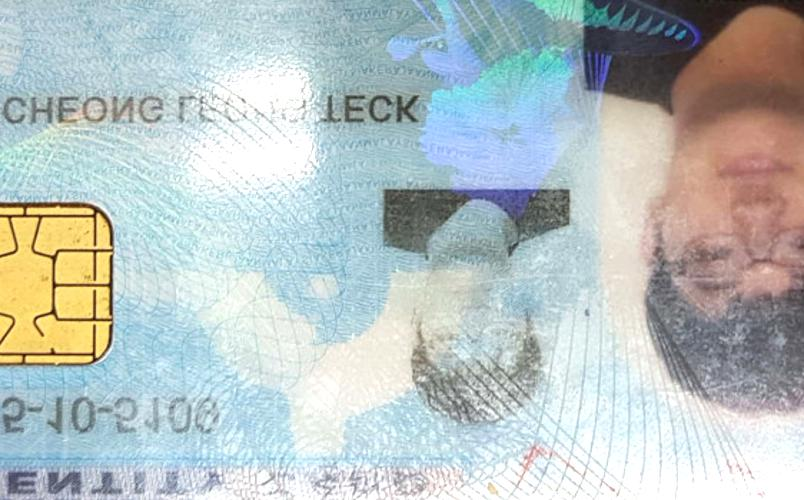hologramB: (420, 32, 573, 185)
